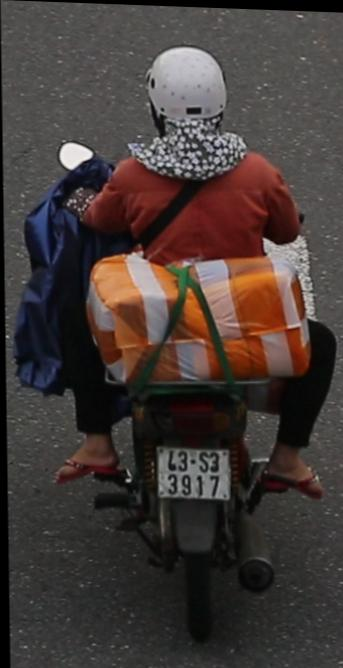LP: (146, 436, 236, 513)
helmet: (139, 38, 234, 143)
